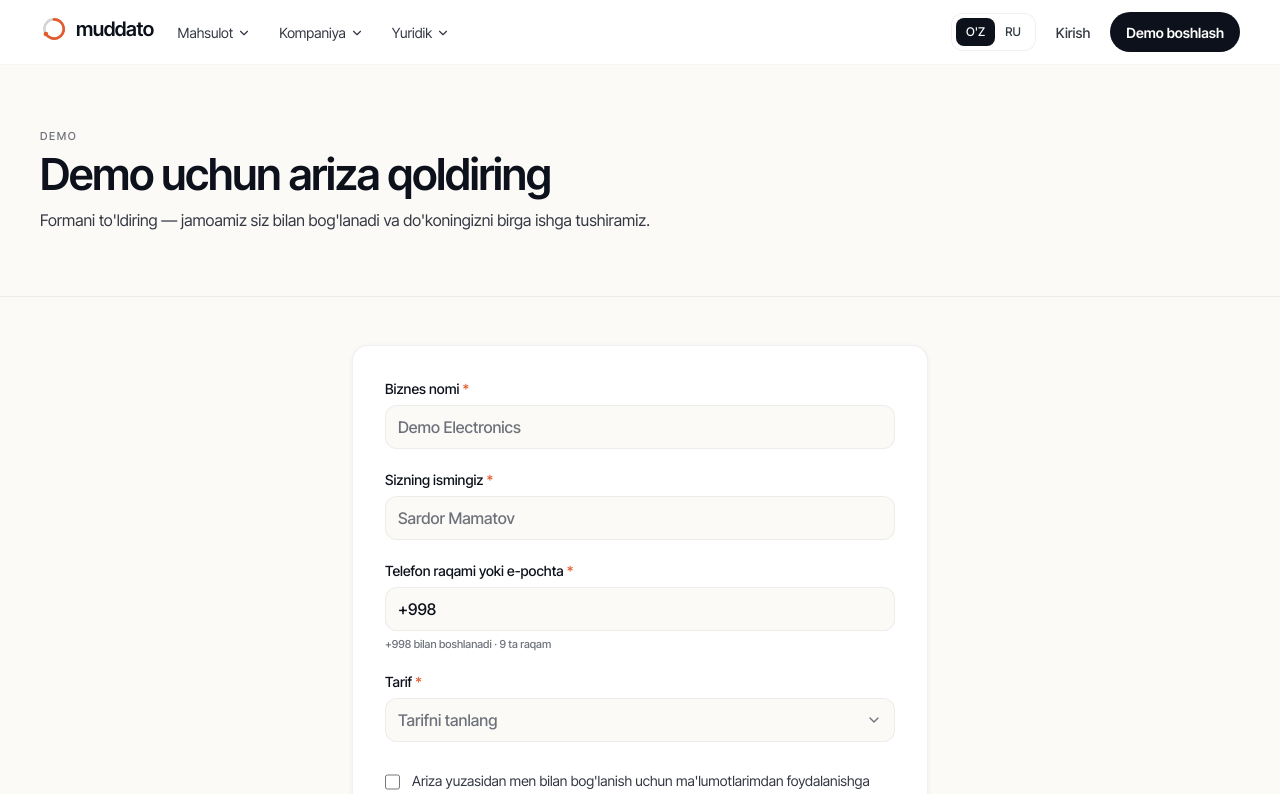
Test: the options offered › excludes contact-sales tiers
What coordinates should you click on to do the following:
click the dropdown
I would click on:
 (448, 720)
Its box is [385,698,895,742].
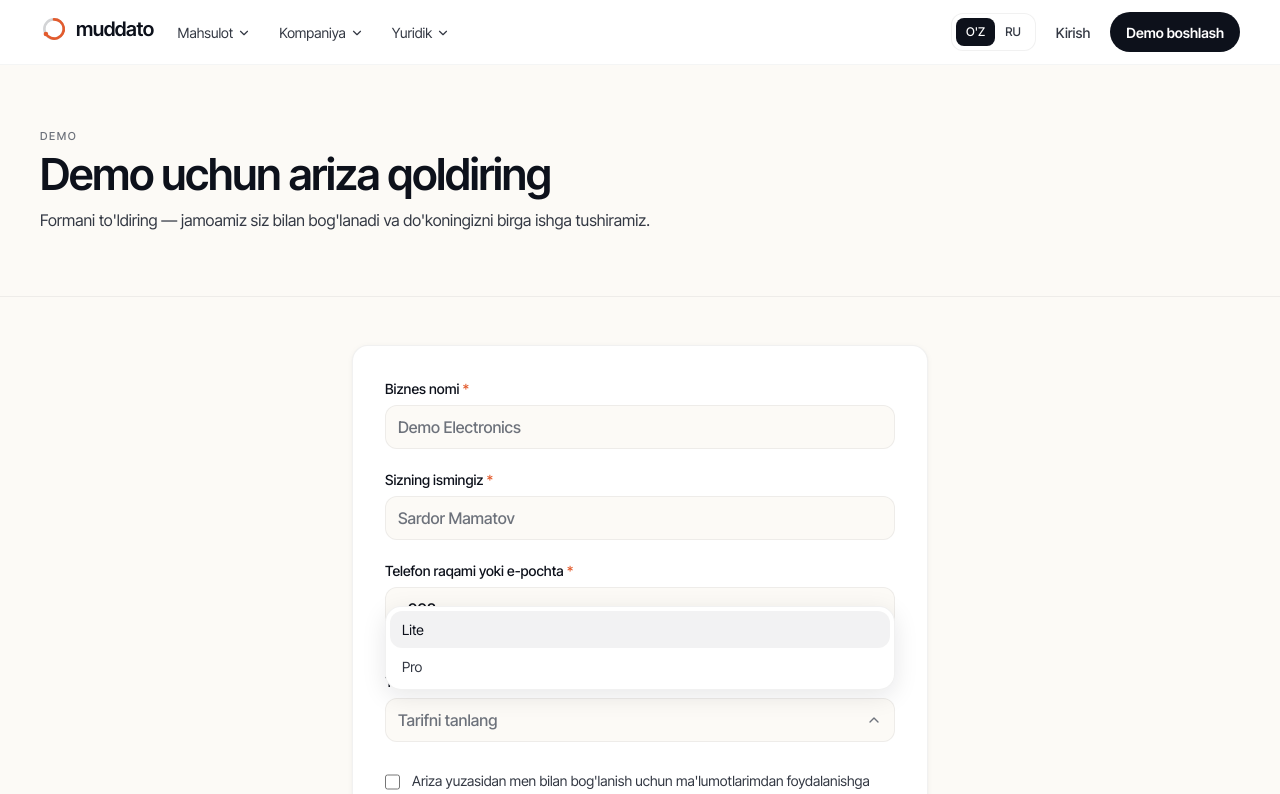
Check: the text "Lite" is shown, box [402,619,424,640]
Check: the text "Pro" is shown, box [402,656,422,677]
